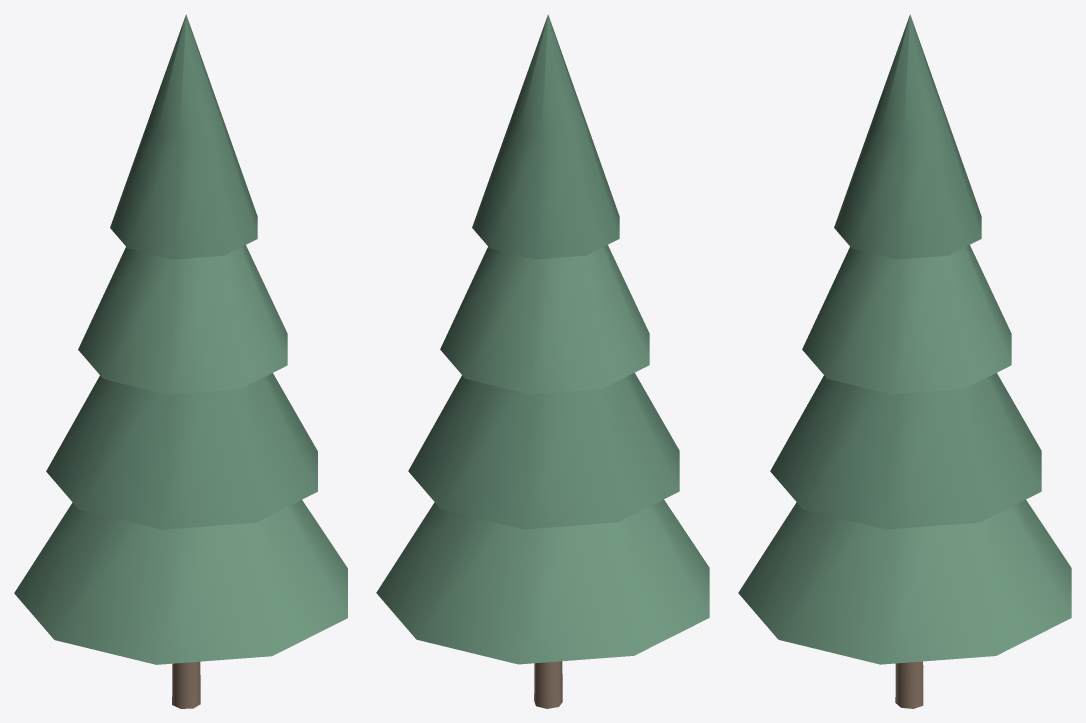
3 renders of one model, left to right at view 1: azimuth 30°, elevation 25°; view 2: azimuth 150°, elevation 25°; view 3: azimuth 270°, elevation 25°, orthographic.
Parts seen in each view (by area): view 1: Visual; view 2: Visual; view 3: Visual.
Boxes of the visible parts, box(x1,y1,x2,y2) form: Visual: box(14, 14, 347, 708); Visual: box(376, 14, 709, 708); Visual: box(738, 14, 1071, 708).
Size of the model in its own units: 8.27 by 18.56 by 8.15.
